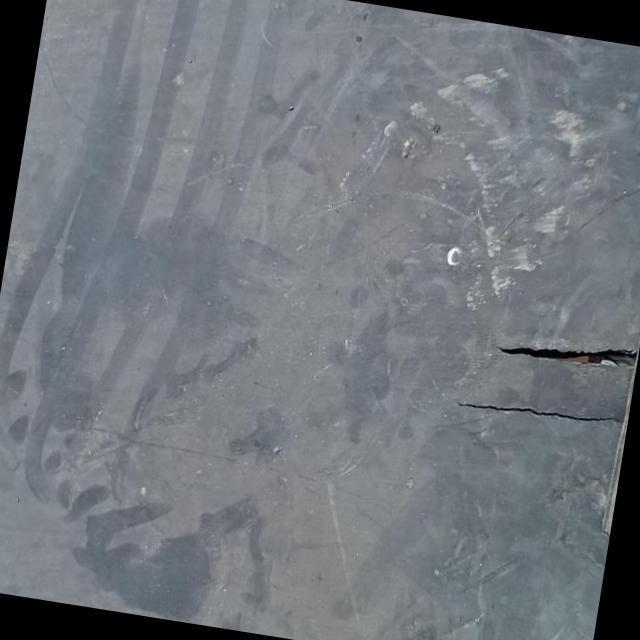Tear: (450, 384, 628, 442), (492, 327, 638, 380)
